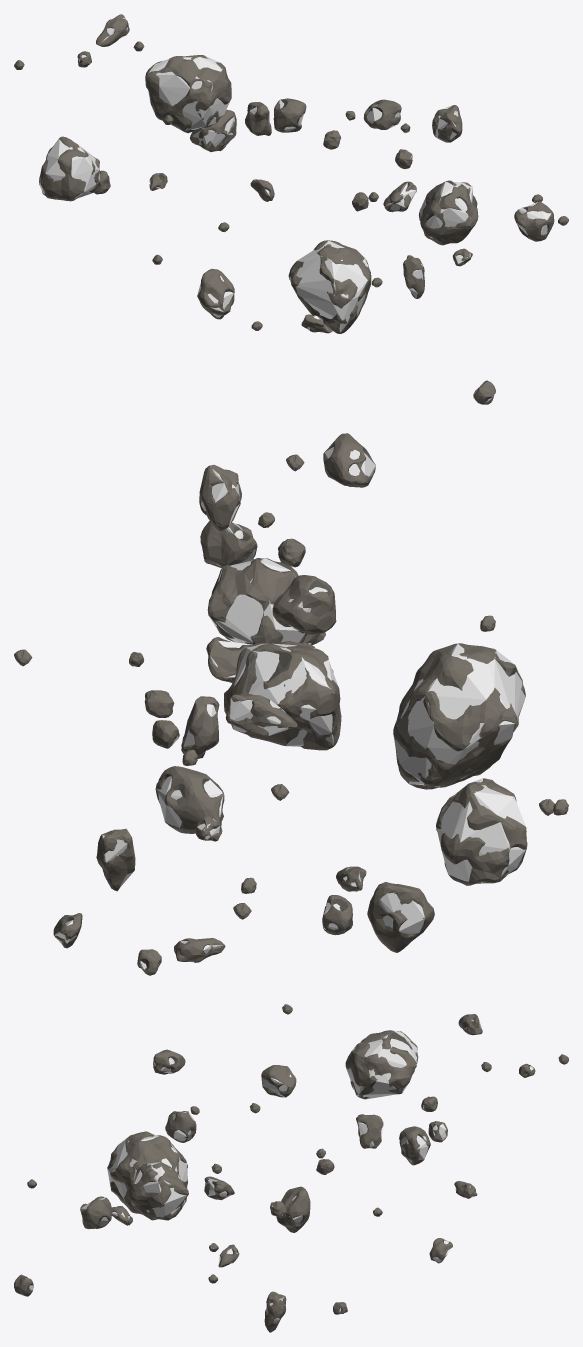
File: SM_Env_Asteroid_Field_02.fbx
The picture shows the model from 3 angles, top to bottom: view 1: azimuth 30°, elevation 25°; view 2: azimuth 150°, elevation 25°; view 3: azimuth 270°, elevation 25°; orthographic projection. The views are drawn at different scales.
Visible parts, largest first — view 1: SM_Env_Asteroid_Field_02_LOD0, SM_Env_Asteroid_Field_02_ConvexHulls; view 2: SM_Env_Asteroid_Field_02_LOD0, SM_Env_Asteroid_Field_02_ConvexHulls; view 3: SM_Env_Asteroid_Field_02_LOD0, SM_Env_Asteroid_Field_02_ConvexHulls.
Boxes of the visible parts, x1,y1,x2,y2 form: SM_Env_Asteroid_Field_02_LOD0: [14, 14, 568, 404]; SM_Env_Asteroid_Field_02_ConvexHulls: [39, 17, 551, 402]; SM_Env_Asteroid_Field_02_LOD0: [14, 433, 568, 975]; SM_Env_Asteroid_Field_02_ConvexHulls: [54, 447, 526, 971]; SM_Env_Asteroid_Field_02_LOD0: [14, 1004, 568, 1332]; SM_Env_Asteroid_Field_02_ConvexHulls: [26, 1017, 533, 1321].
Size of the model in its own units: 16017 by 12679 by 7979.
1 material, 1 textured.
